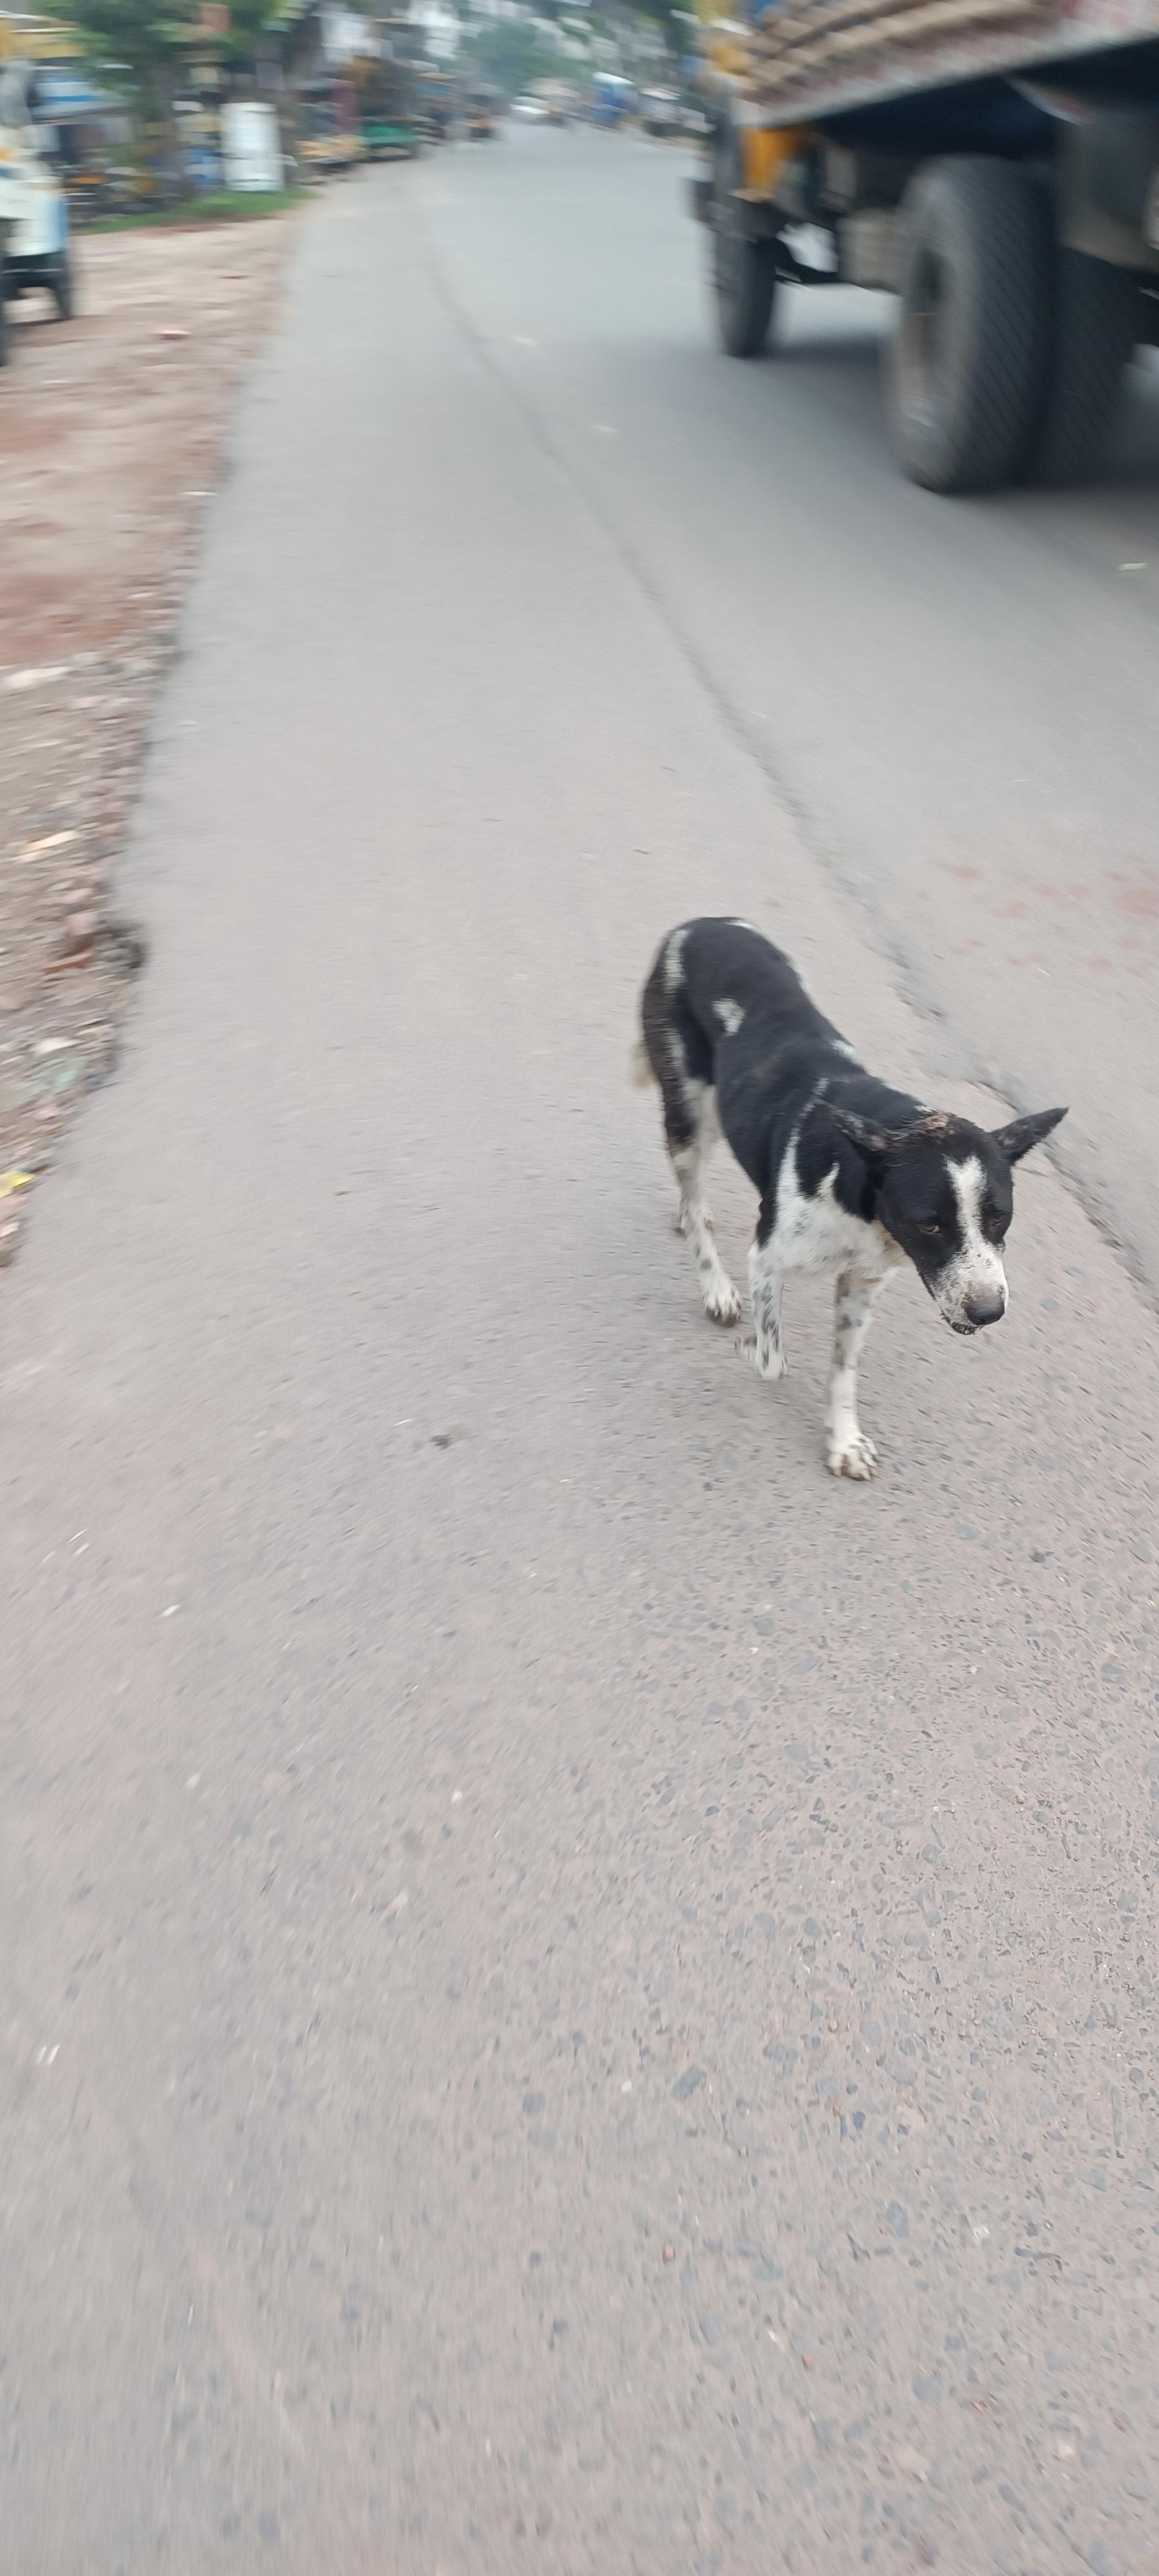Crosswalk: (630, 912, 1070, 1483)
